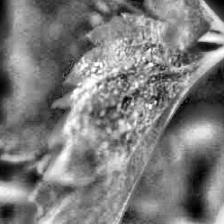Powdery Mildew Leaf: (17, 13, 221, 224)
